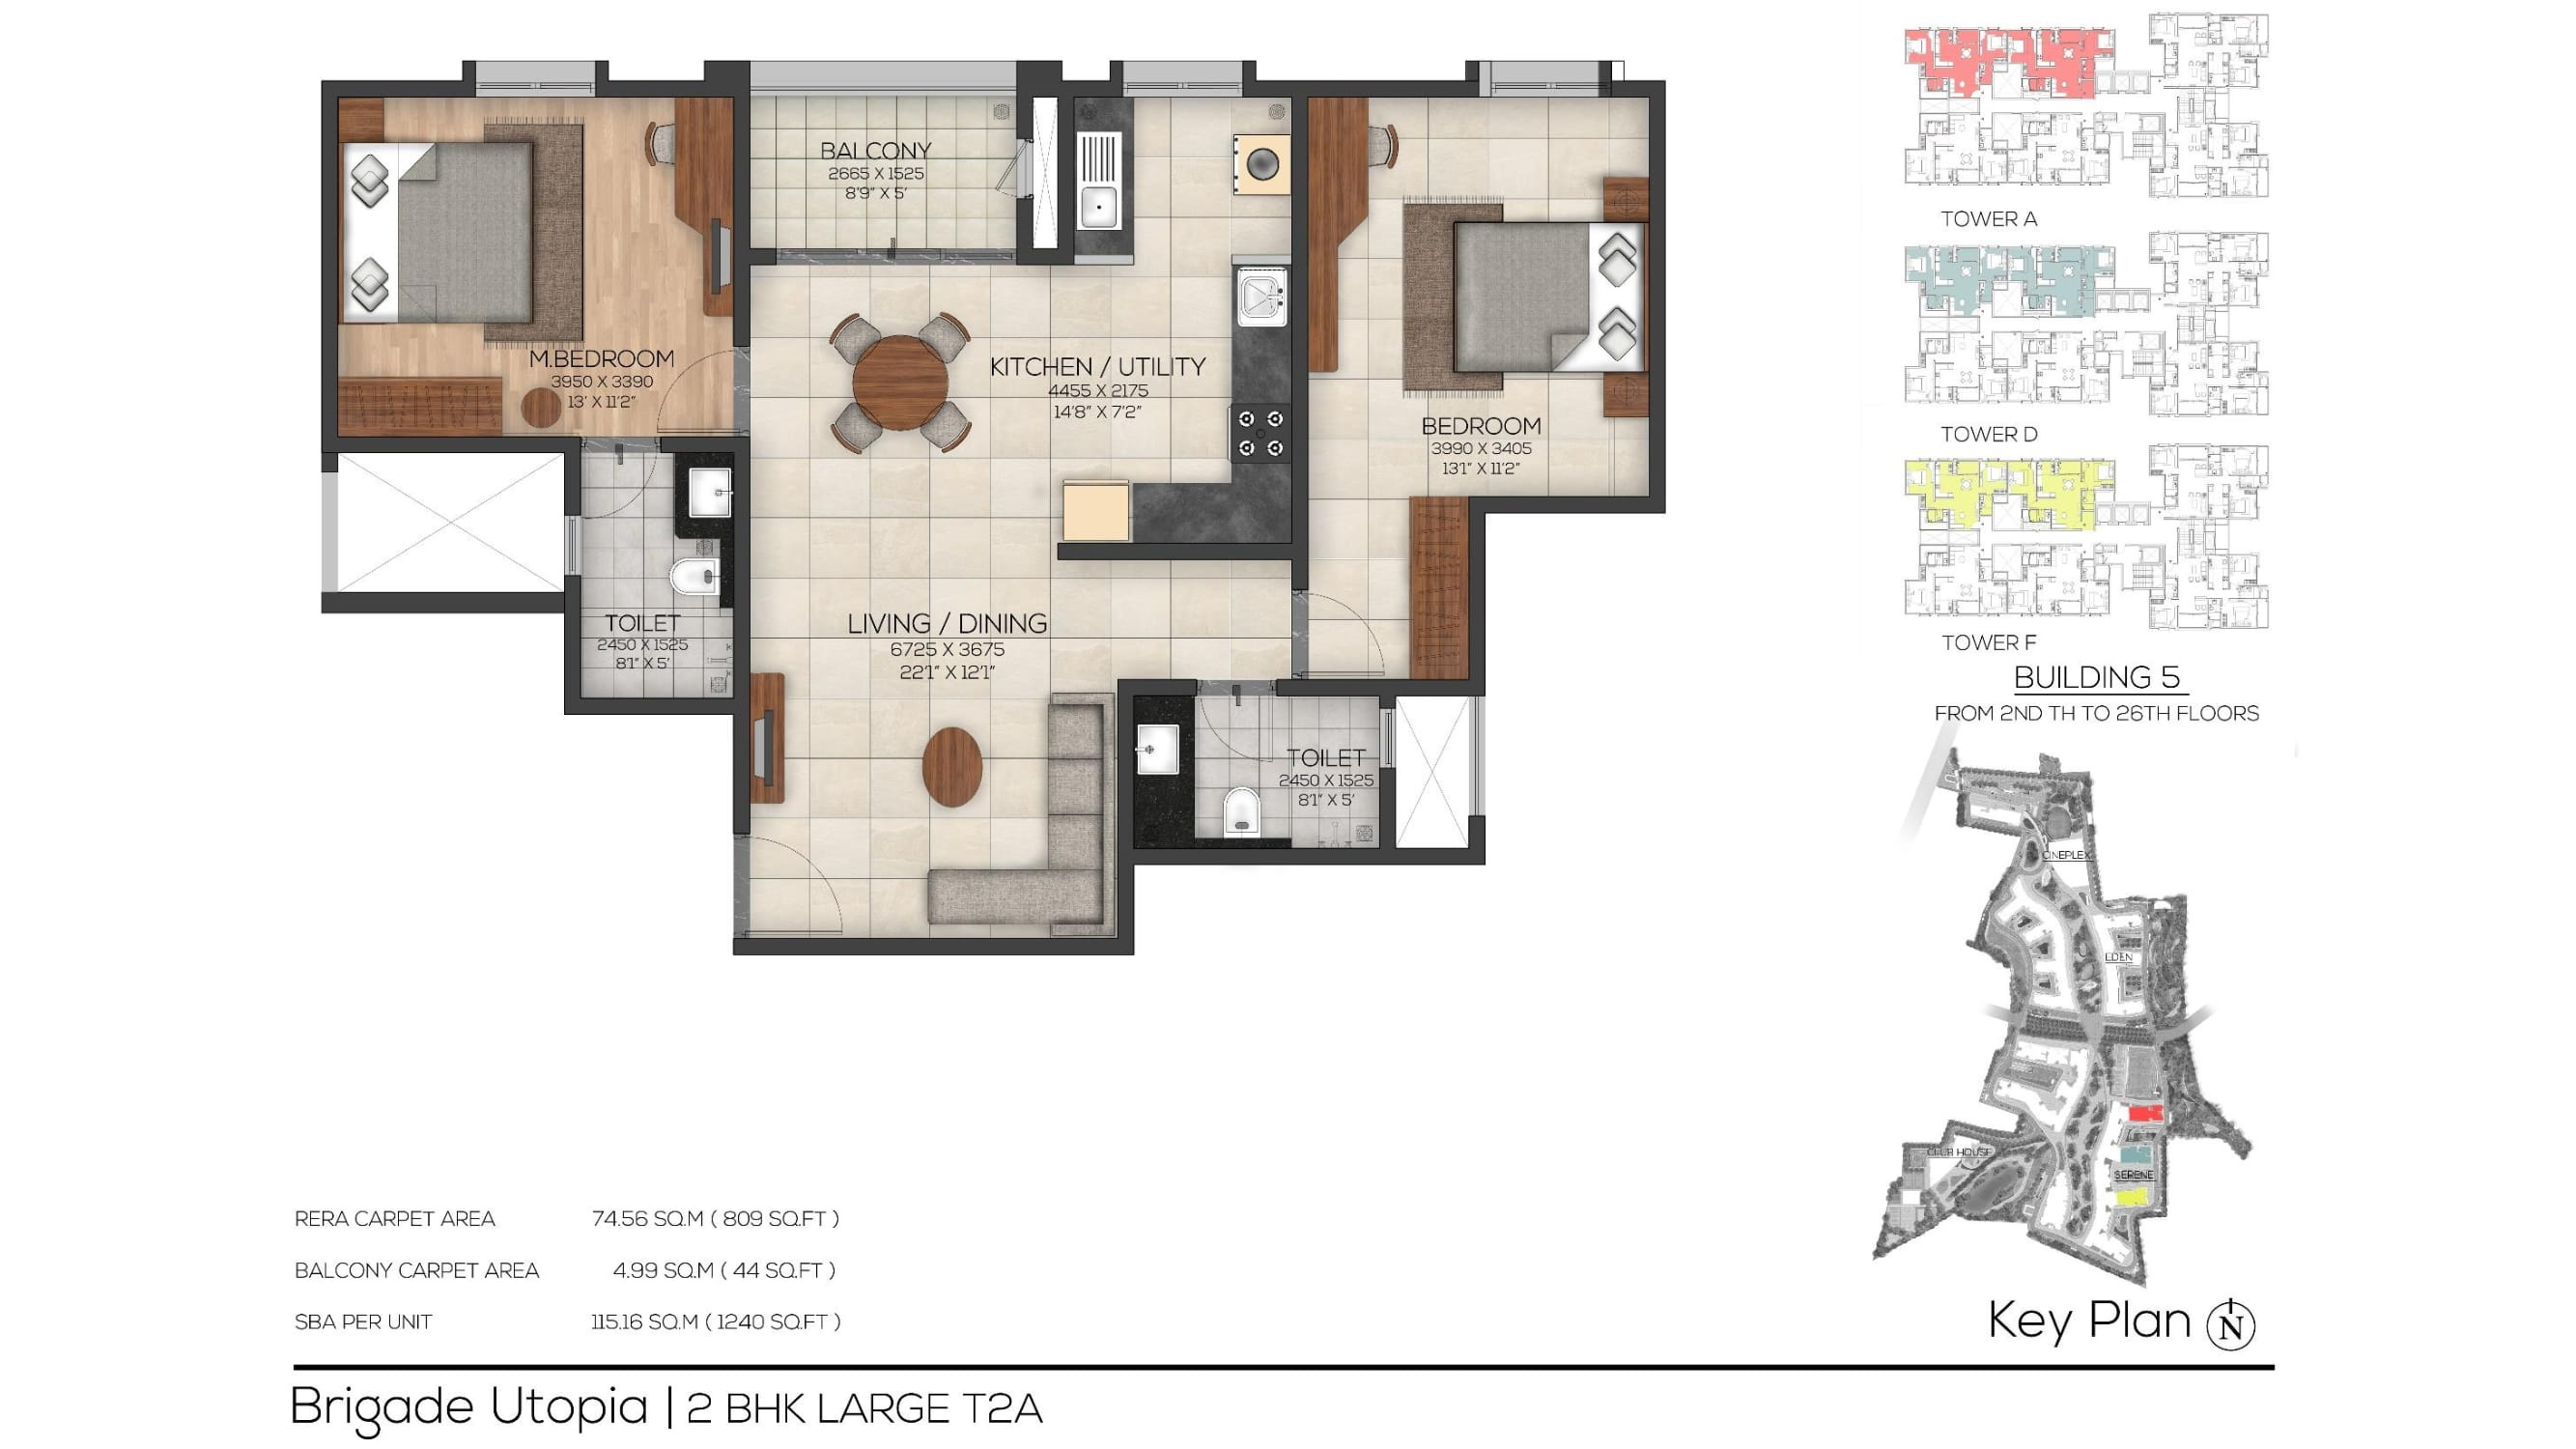window: (1477, 60, 1603, 99), (1120, 60, 1244, 99), (474, 60, 596, 97), (1376, 704, 1396, 771), (561, 511, 580, 579)
